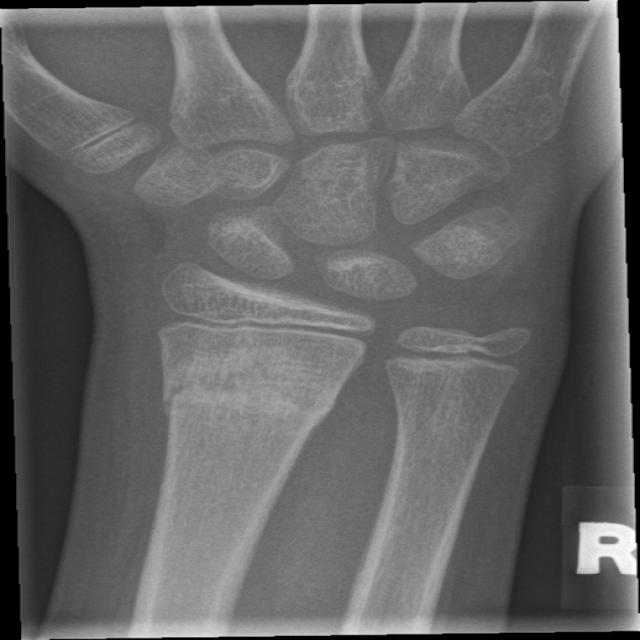radius fracture: (147, 338, 301, 456)
